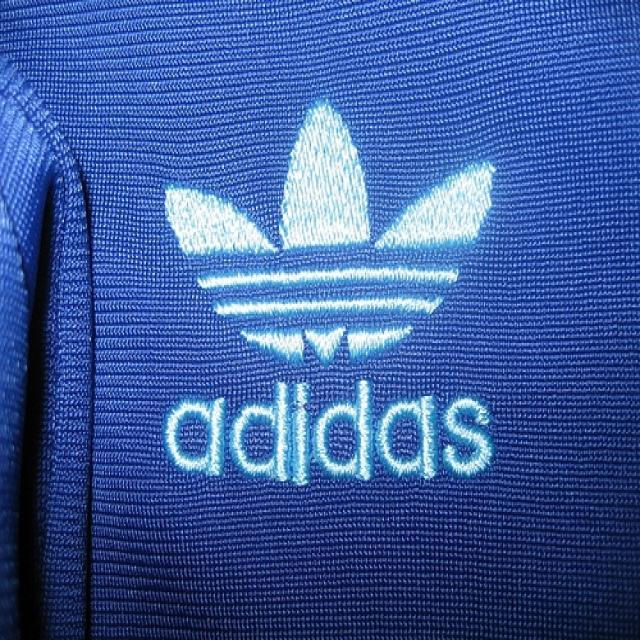adidas: (153, 83, 504, 491)
